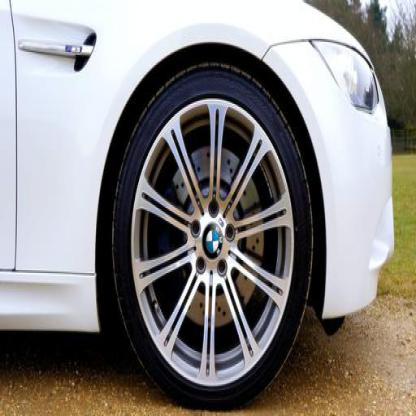Tire: (110, 61, 314, 411)
